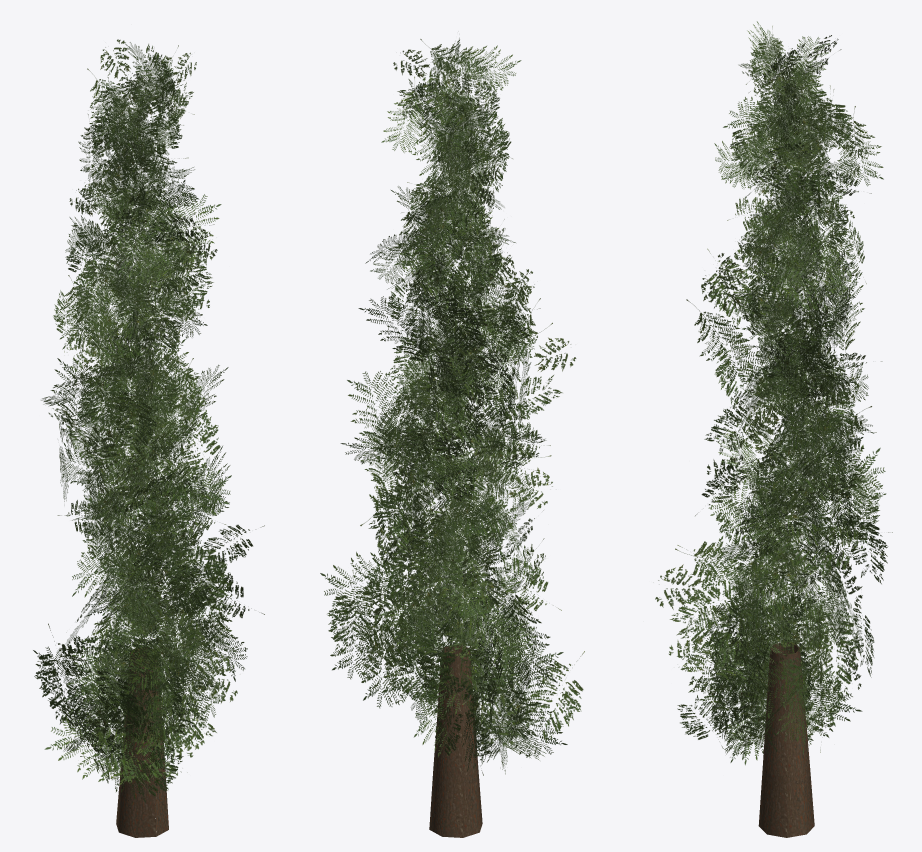
The model's file is cypress_4.glb.
3 views of the same model, side by side, from view 1: azimuth 30°, elevation 25°; view 2: azimuth 150°, elevation 25°; view 3: azimuth 270°, elevation 25° (orthographic). The views are drawn at different scales.
Visible parts, largest first — view 1: cypress; view 2: cypress; view 3: cypress.
Part boxes in pixels (x1,y1,x2,y2): cypress: (33,39,264,837); cypress: (320,38,584,837); cypress: (655,21,892,837).
Size of the model in its own units: 3.17 by 9.64 by 2.89.
2 materials, 2 textured.
